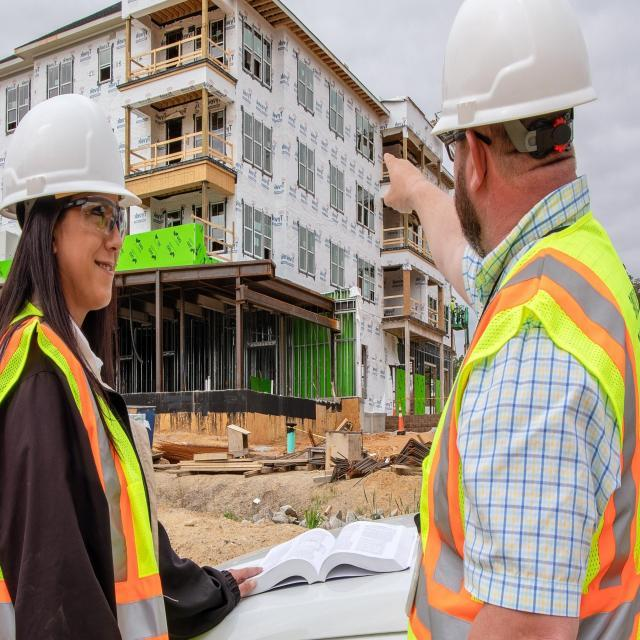reflective_jacket: (403, 205, 637, 639), (0, 299, 170, 639)
safety_helmet: (428, 0, 600, 137), (0, 86, 146, 216)
